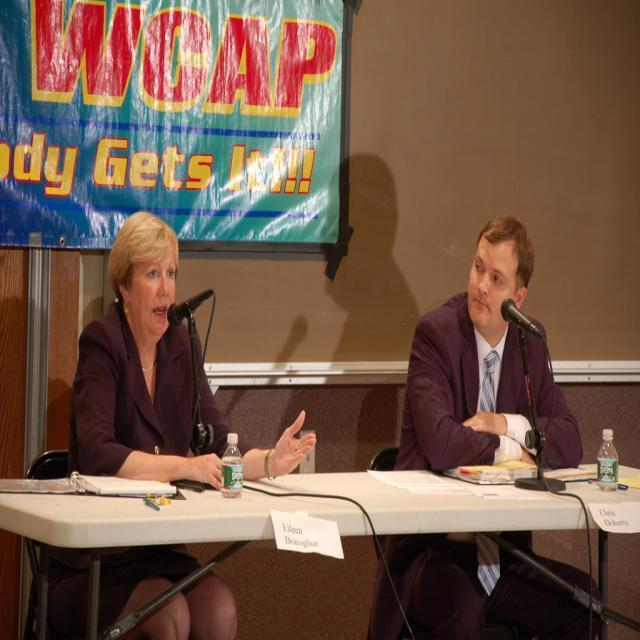closed-mouth: (472, 296, 489, 319)
